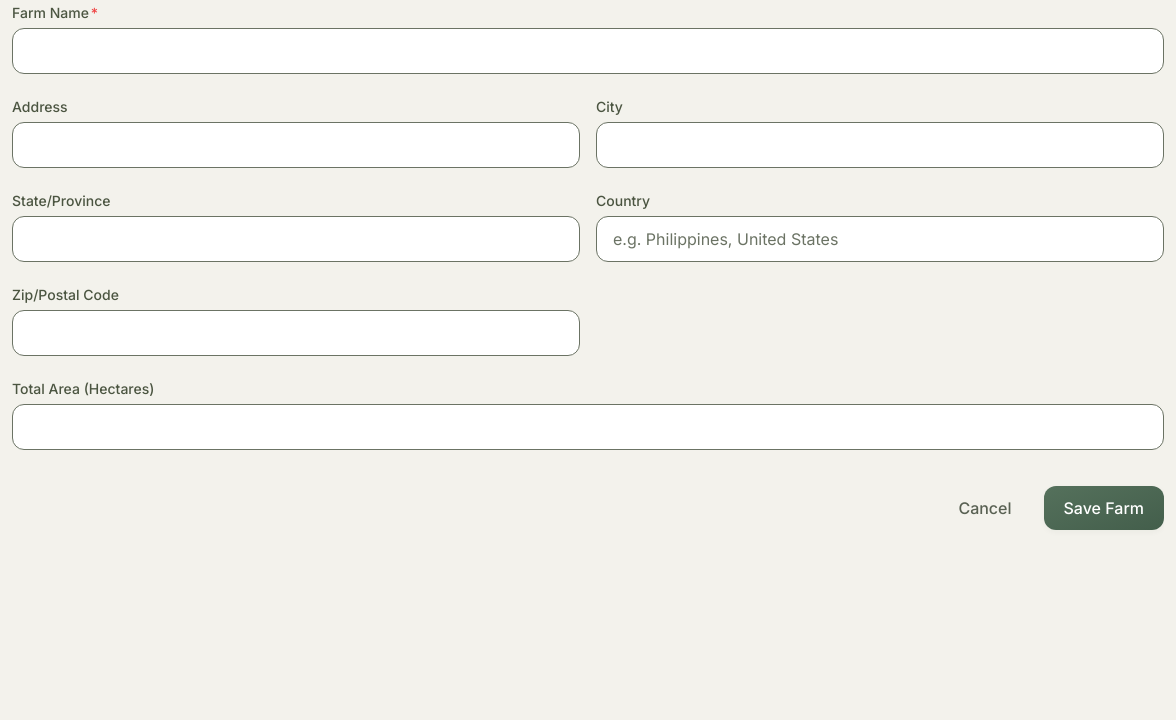
Test case: CreateFarmForm.vue › blocks submit when the name is missing
In the field with id "farm-city": x=880, y=145 [596,122,1164,168], type "Springfield"
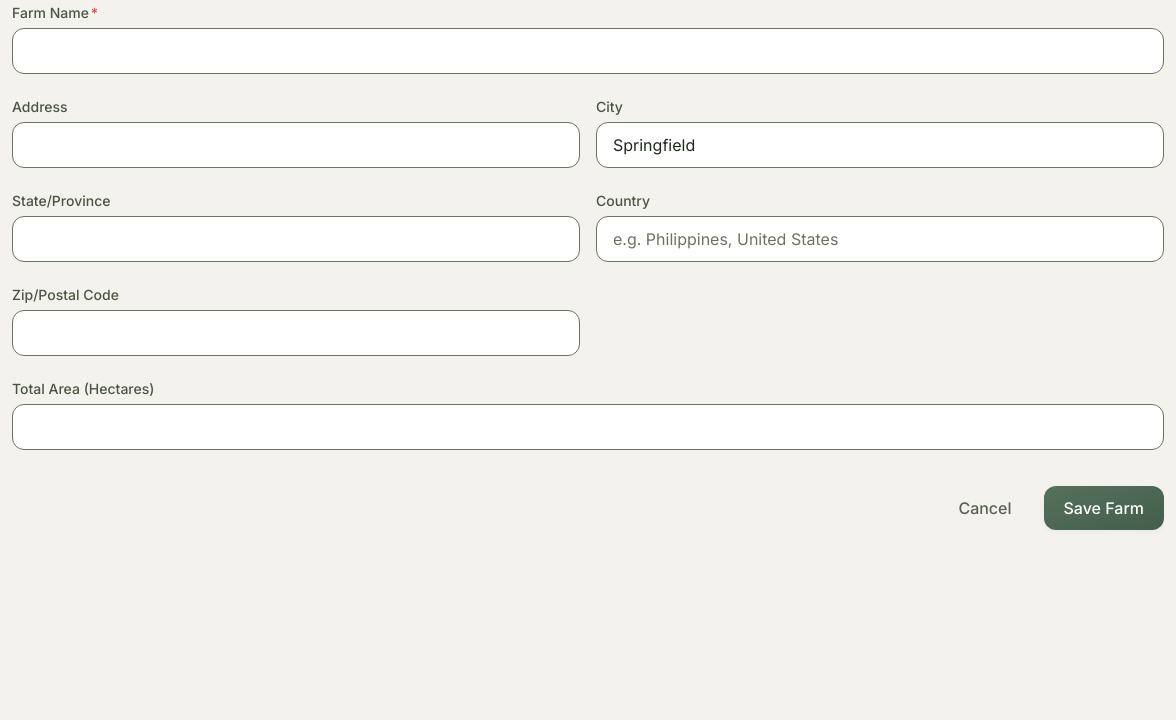
Submit the form
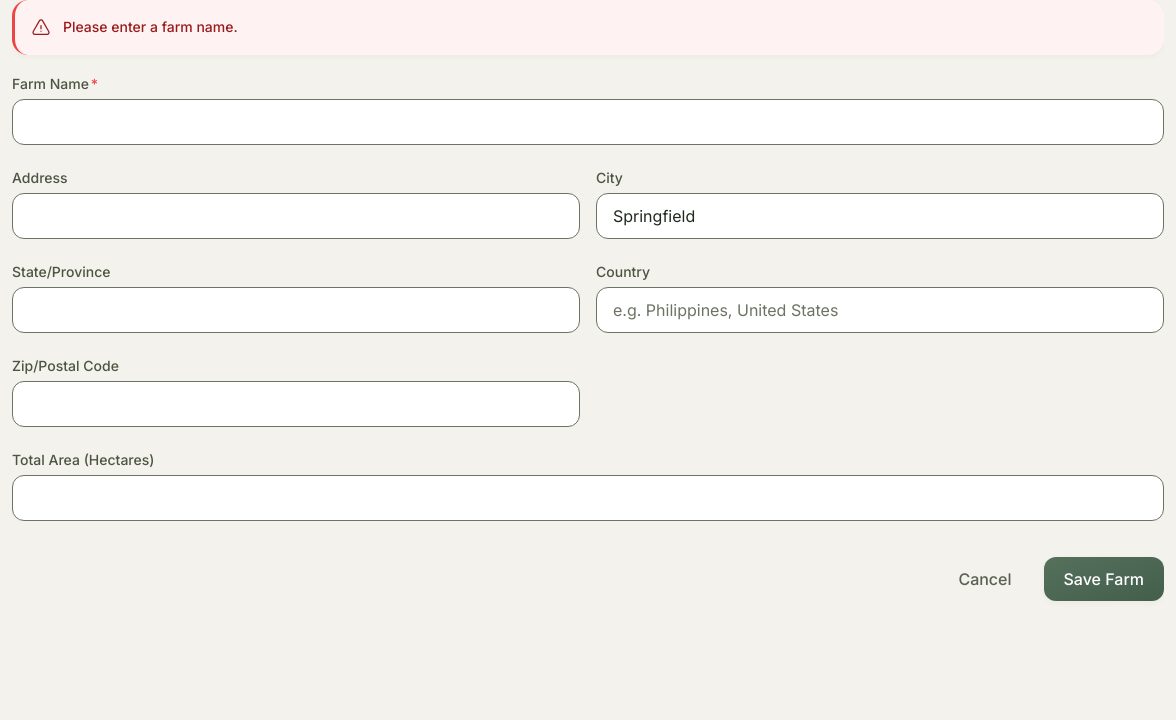
Expected: the text "Please enter a farm name." is shown, [63,18,238,35]
